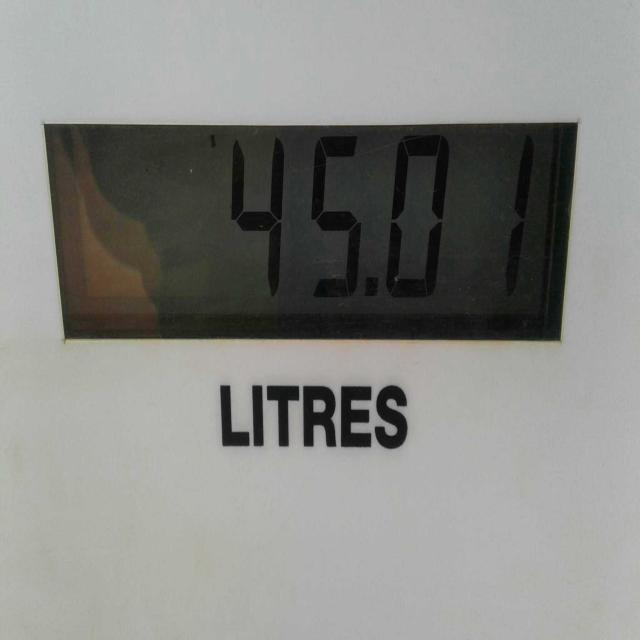.: (360, 259, 386, 319)
0: (379, 126, 456, 330)
1: (485, 124, 543, 311)
4: (211, 132, 298, 332)
5: (297, 130, 373, 328)
